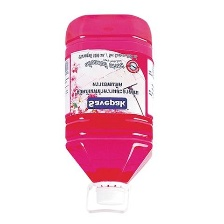cleaning_solution: (61, 10, 155, 217)
